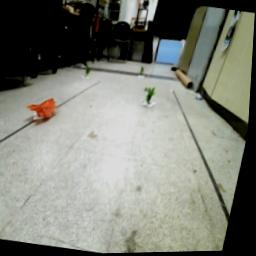herb: (142, 87, 159, 108), (86, 65, 93, 78)
wild: (25, 93, 62, 124)
